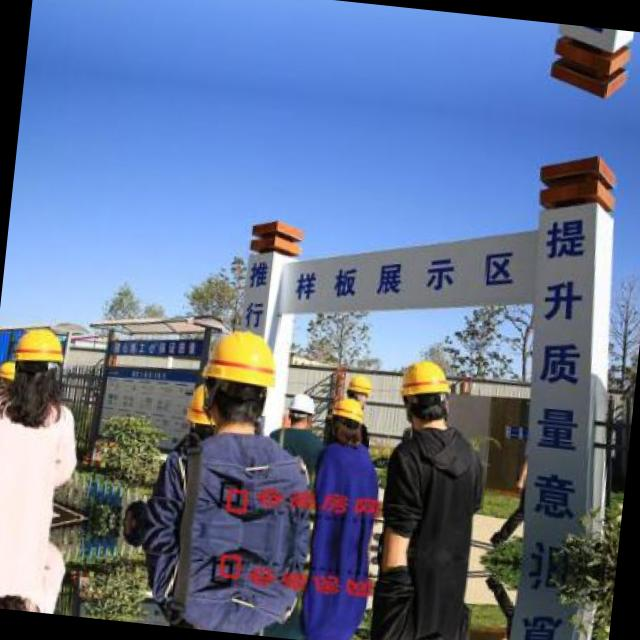helmet: (196, 321, 280, 435), (394, 352, 454, 431), (9, 323, 63, 394), (324, 392, 370, 446), (285, 391, 318, 432), (343, 372, 375, 404)
